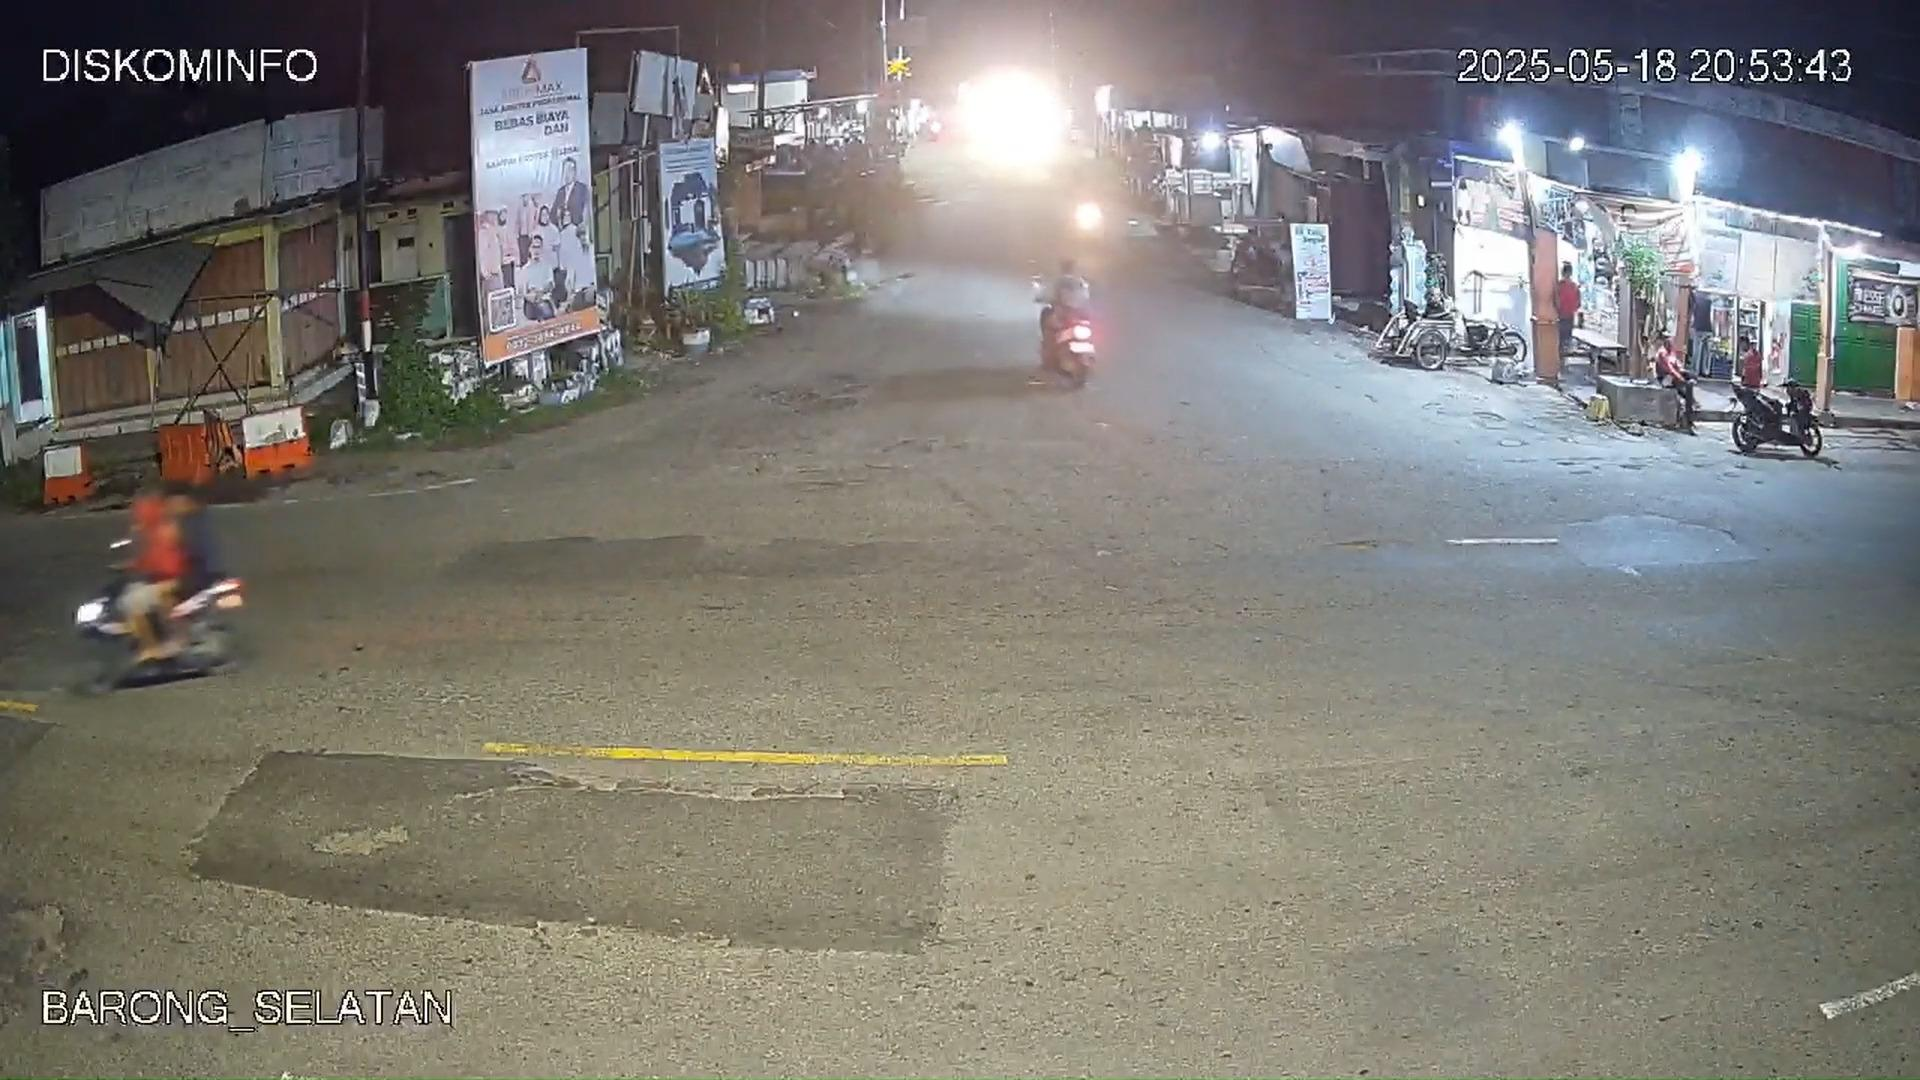Motor: (1729, 375, 1826, 458), (1031, 274, 1097, 390)
